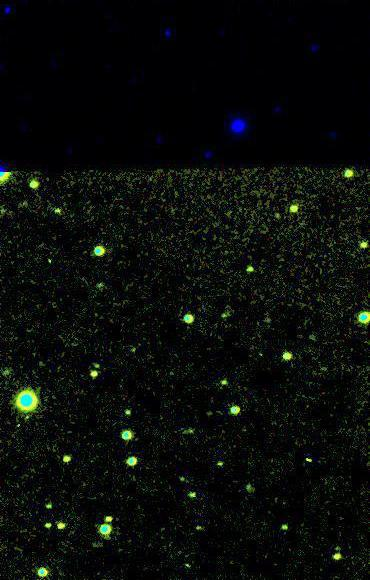star: (178, 550, 208, 580)
